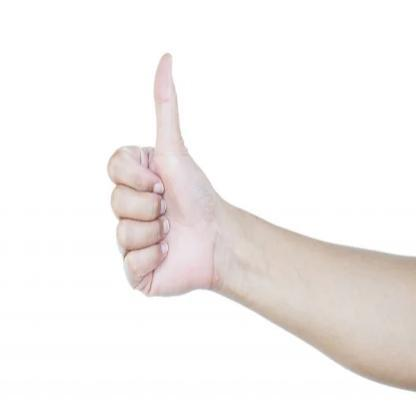thumb_up: (104, 52, 214, 302)
